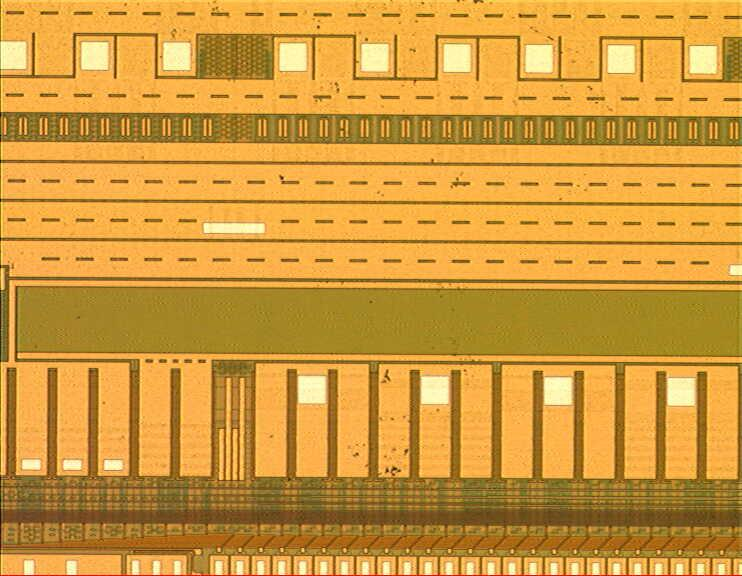PO CONTAMINATION: (96, 1, 630, 488)
